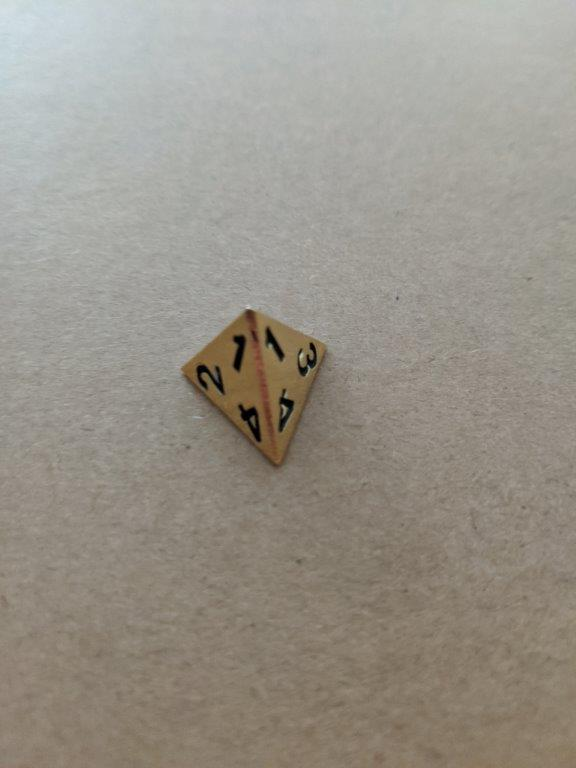d4-1: (176, 305, 342, 472)
